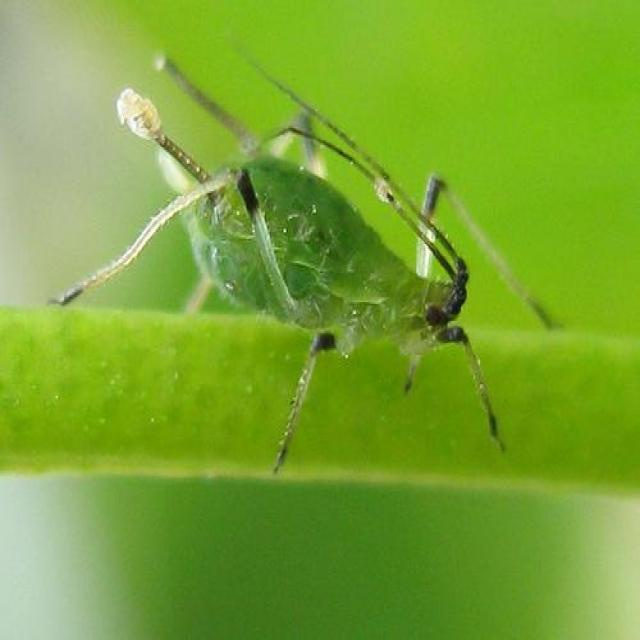Aphids: (111, 82, 517, 447)
